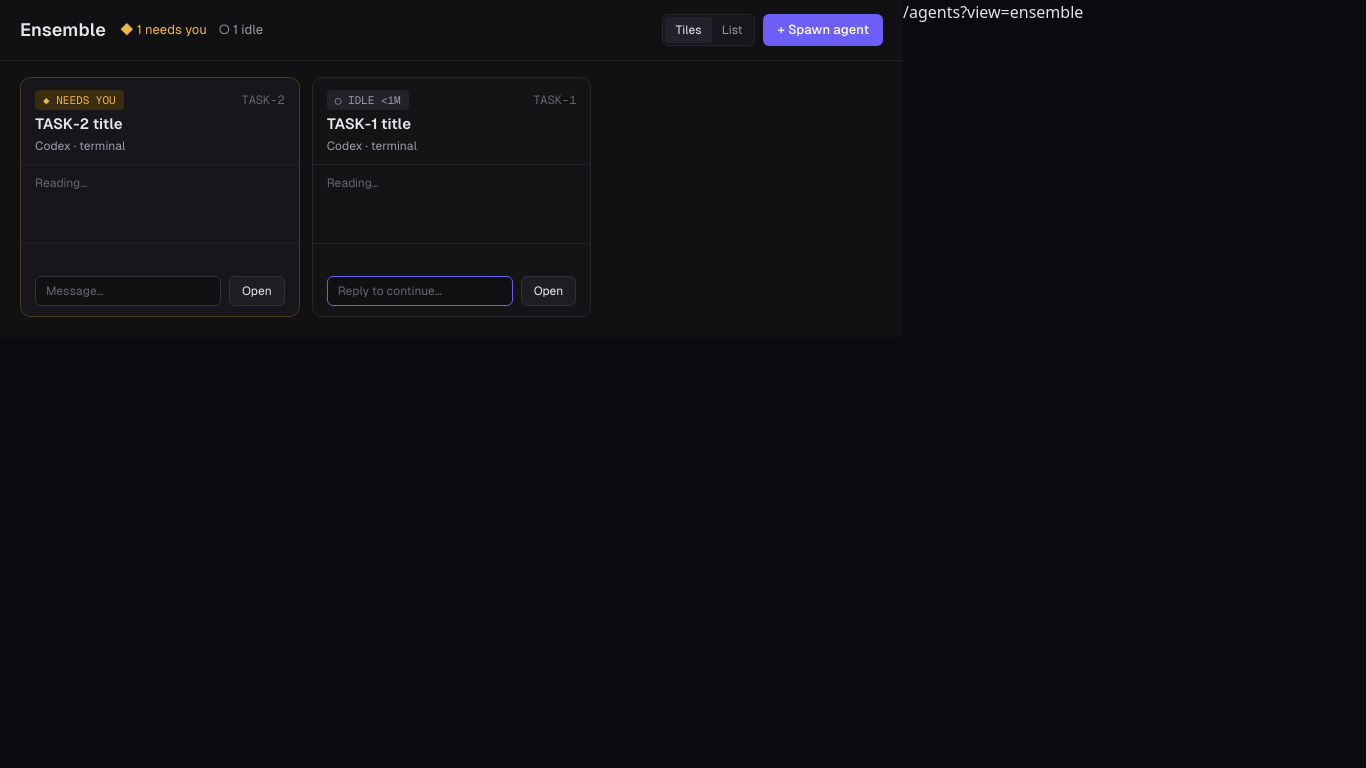
Scenario: spawns an agent from the ensemble
What coordinates should you click on to do the following:
click the button "+ Spawn agent"
I would click on:
 (823, 30)
Its box is left=764, top=14, right=883, bottom=46.
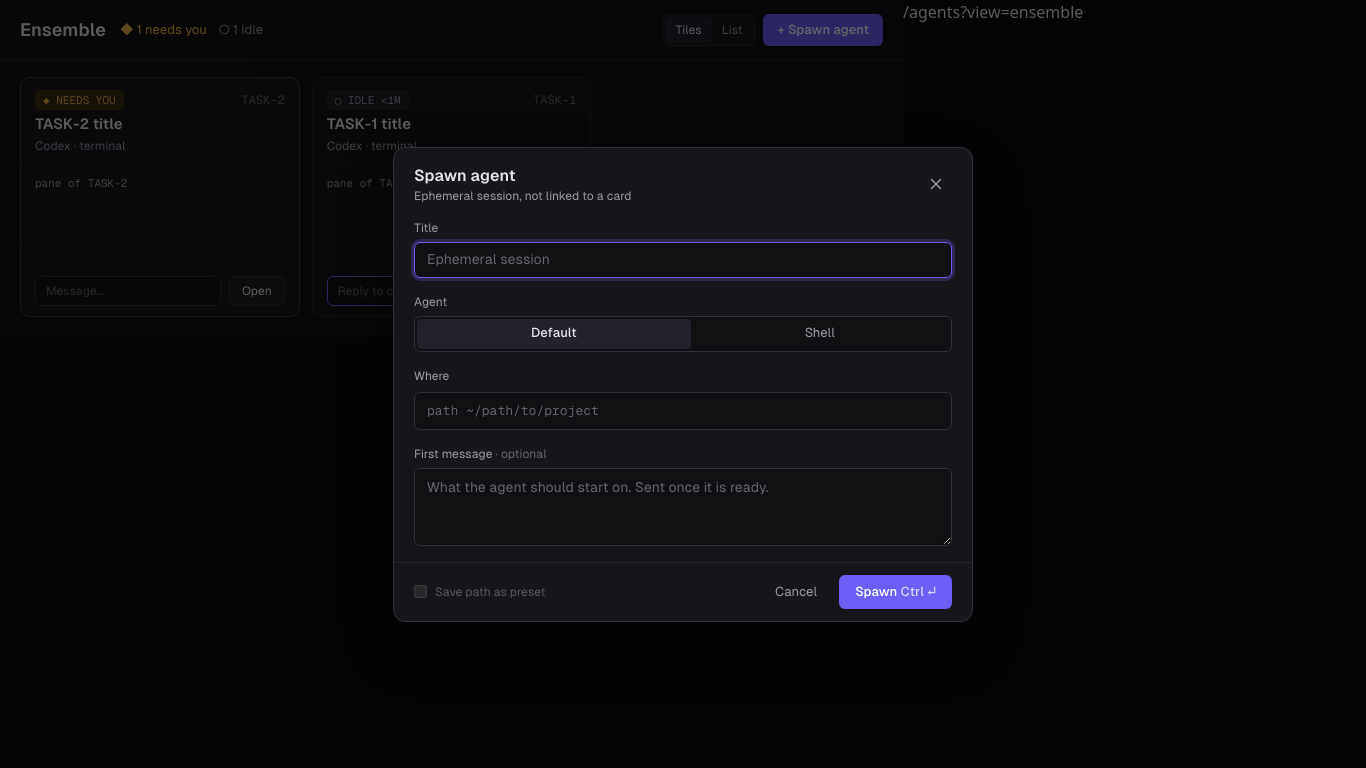
Expected: the dialog is shown, left=393, top=146, right=973, bottom=622
